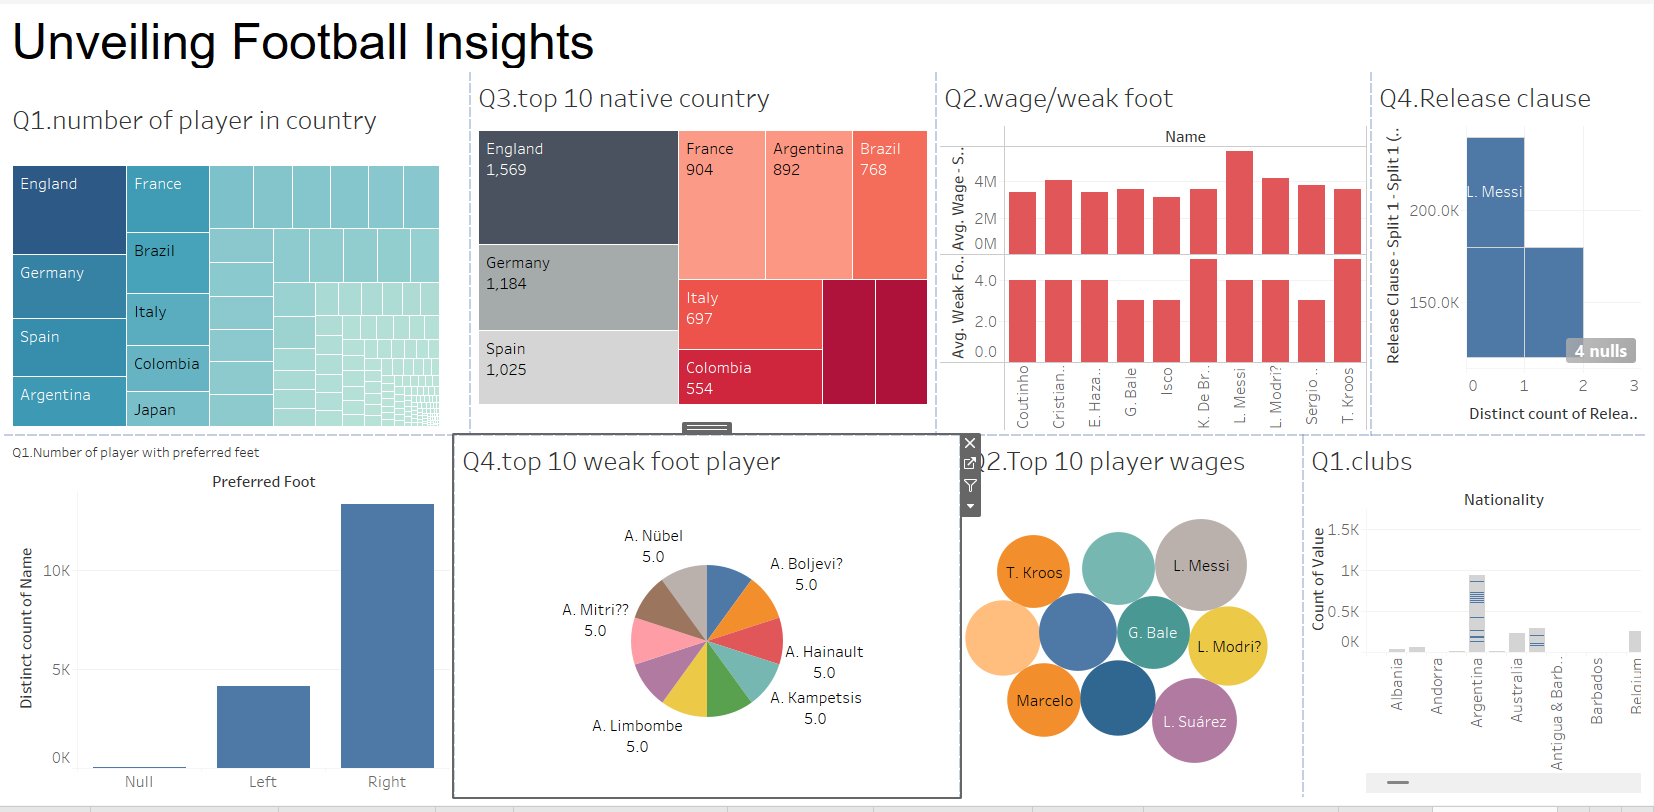

The page's visual inventory and layout, read from the dashboard file:
{"tool":"tableau","page":{"name":"Dashboard 2","canvas":[1000,1000],"units":"permille","ordinal":2},"visuals":[{"type":"text","box":[4.8,10,990.3,74.9]},{"type":"worksheet","title":"Q1.number of player in country","mark":"Automatic","box":[4.8,84.9,281.5,452.6]},{"type":"worksheet","title":"Q3.top 10 native country","mark":"Automatic","box":[286.3,84.9,280.9,452.6]},{"type":"worksheet","title":"Q2.wage/weak foot","mark":"Bar","rows":["Wage - Split 1","Weak Foot"],"cols":["Name"],"box":[567.2,84.9,262.8,452.6]},{"type":"worksheet","title":"Q4.Release clause","mark":"Automatic","rows":["Release Clause - Split 1 - Split 1 (bin)"],"cols":["Release Clause - Split 1 - Split 1"],"box":[830,84.9,165.2,452.6]},{"type":"worksheet","title":"Q1.Number of player with preferred feet","mark":"Automatic","rows":["Name"],"cols":["Preferred Foot"],"box":[4.8,537.5,271.5,452.6]},{"type":"worksheet","title":"Q4.top 10 weak foot player ","mark":"Pie","box":[276.3,537.5,305.6,452.6]},{"type":"worksheet","title":"Q2.Top 10 player wages","mark":"Circle","box":[581.9,537.5,206.6,452.6]},{"type":"worksheet","title":"Q1.clubs","mark":"Automatic","rows":["Value"],"cols":["Nationality"],"box":[788.5,537.5,206.7,452.6]}]}

Visuals, with their boxes on the dashboard's canvas, which has no fixed pixel size, in thousandths of its width and height (x1, y1, x2, y2). These are canvas units, not pixel positions in the 1654x812 screenshot, which may show the page scaled, cropped or inside an application window:
text: 5,10,995,85
"Q1.number of player in country" worksheet: 5,85,286,538
"Q3.top 10 native country" worksheet: 286,85,567,538
"Q2.wage/weak foot" worksheet (Bar marks): 567,85,830,538
"Q4.Release clause" worksheet: 830,85,995,538
"Q1.Number of player with preferred feet" worksheet: 5,538,276,990
"Q4.top 10 weak foot player " worksheet (Pie marks): 276,538,582,990
"Q2.Top 10 player wages" worksheet (Circle marks): 582,538,788,990
"Q1.clubs" worksheet: 788,538,995,990
